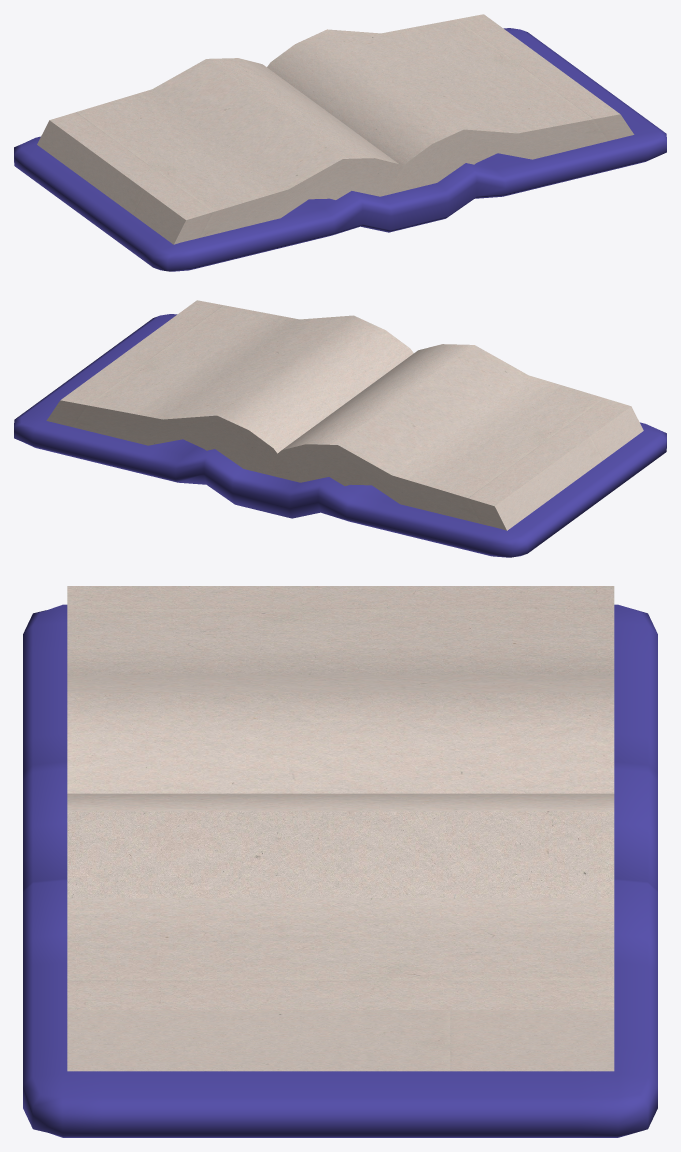
File: OpenBookModel.fbx
The picture shows the model from 3 angles, top to bottom: view 1: azimuth 30°, elevation 25°; view 2: azimuth 150°, elevation 25°; view 3: azimuth 270°, elevation 25°; orthographic projection. The views are drawn at different scales.
Visible parts, largest first — view 1: pCube3, pCube2, pCube1; view 2: pCube3, pCube2, pCube1; view 3: pCube2, pCube3, pCube1.
Part boxes in pixels (x1=…): pCube3: x1=37, y1=58, x2=416, y2=244; pCube2: x1=267, y1=14, x2=634, y2=194; pCube1: x1=14, y1=28, x2=666, y2=271; pCube3: x1=264, y1=344, x2=643, y2=530; pCube2: x1=46, y1=300, x2=413, y2=480; pCube1: x1=14, y1=314, x2=666, y2=557; pCube2: x1=67, y1=793, x2=614, y2=1071; pCube3: x1=67, y1=586, x2=614, y2=793; pCube1: x1=23, y1=604, x2=657, y2=1137.
Bounding box in the file's own units: 2.14 × 0.3099 × 1.14.
Materials: 2 (1 with a texture image).
